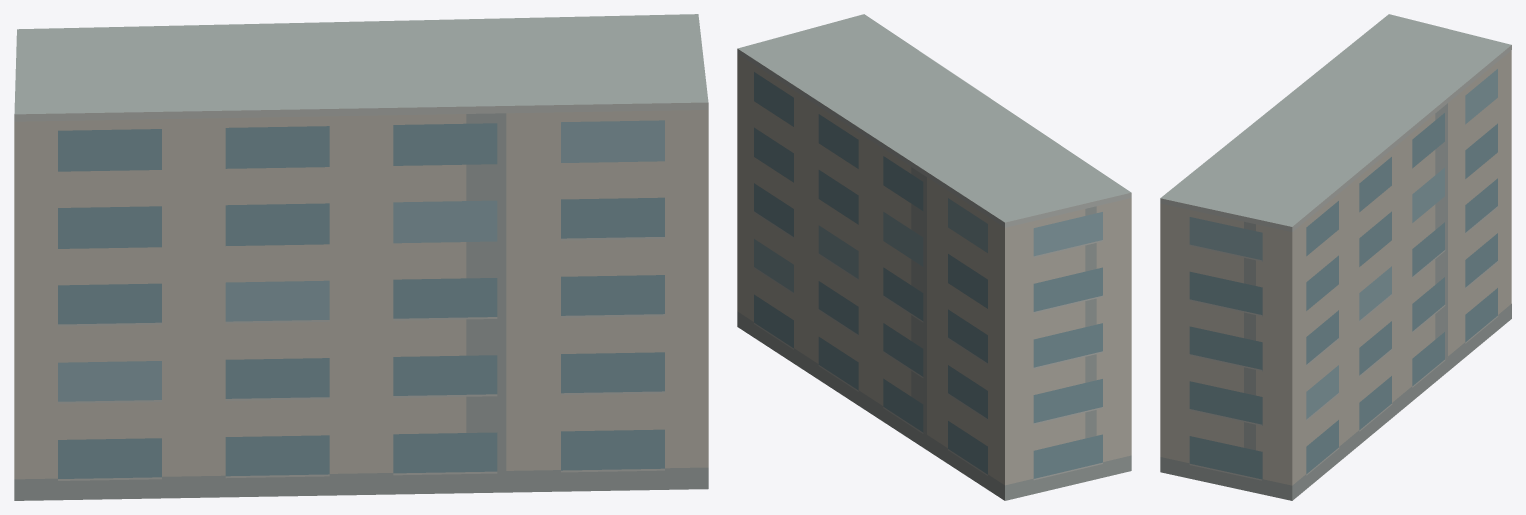
File: survey-upis-32727043.glb
3 views of the same model, side by side, from view 1: azimuth 30°, elevation 25°; view 2: azimuth 150°, elevation 25°; view 3: azimuth 270°, elevation 25° (orthographic). The views are drawn at different scales.
Parts seen in each view (by area): view 1: survey-upis-32727043.tmp; view 2: survey-upis-32727043.tmp; view 3: survey-upis-32727043.tmp.
Part boxes in pixels (x1,y1,x2,y2): survey-upis-32727043.tmp: (14, 14, 708, 500); survey-upis-32727043.tmp: (737, 14, 1131, 500); survey-upis-32727043.tmp: (1160, 14, 1511, 500).
Size of the model in its own units: 21.35 by 12.8 by 14.9.
